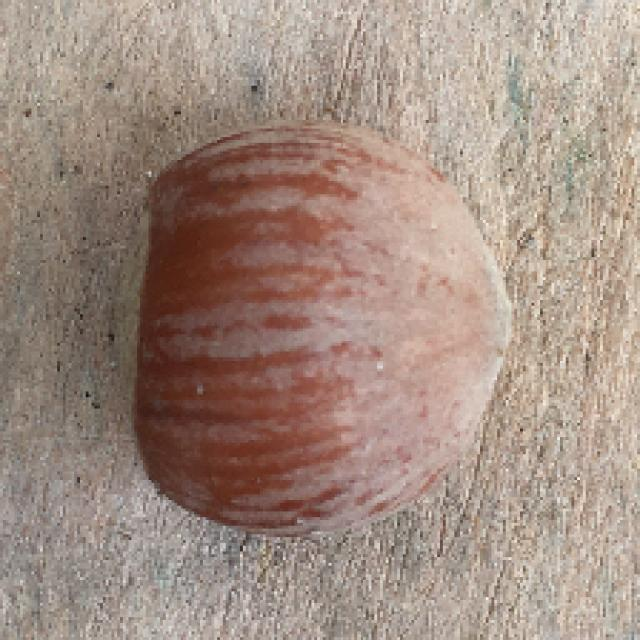qualityHazelnut: (110, 124, 519, 529)
